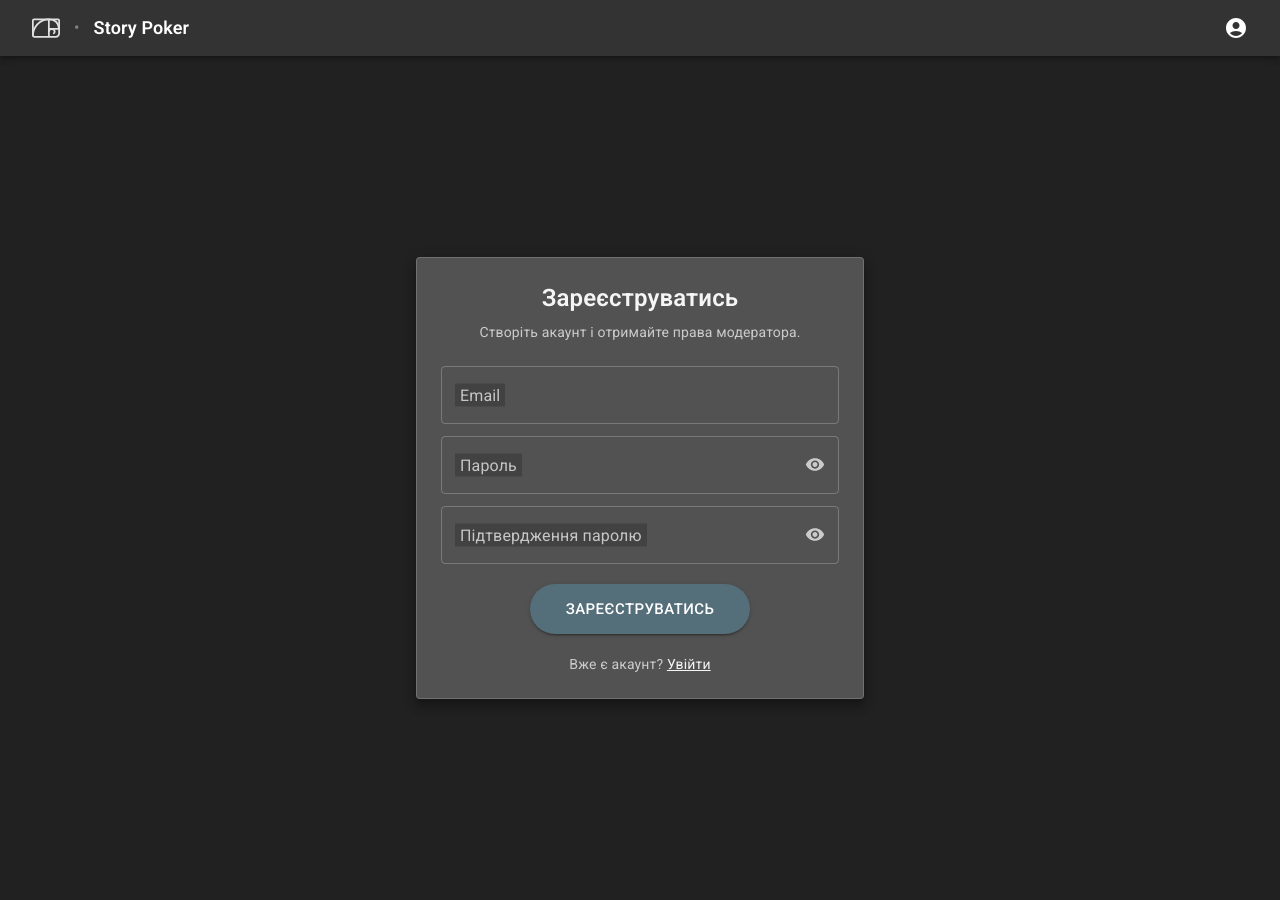
signup page › requires matching passwords
The width and height of the screenshot is (1280, 900).
Type "a@b.co" into the field with test id "signup-email" at (640, 395), box x1=441 y1=366 x2=839 y2=424
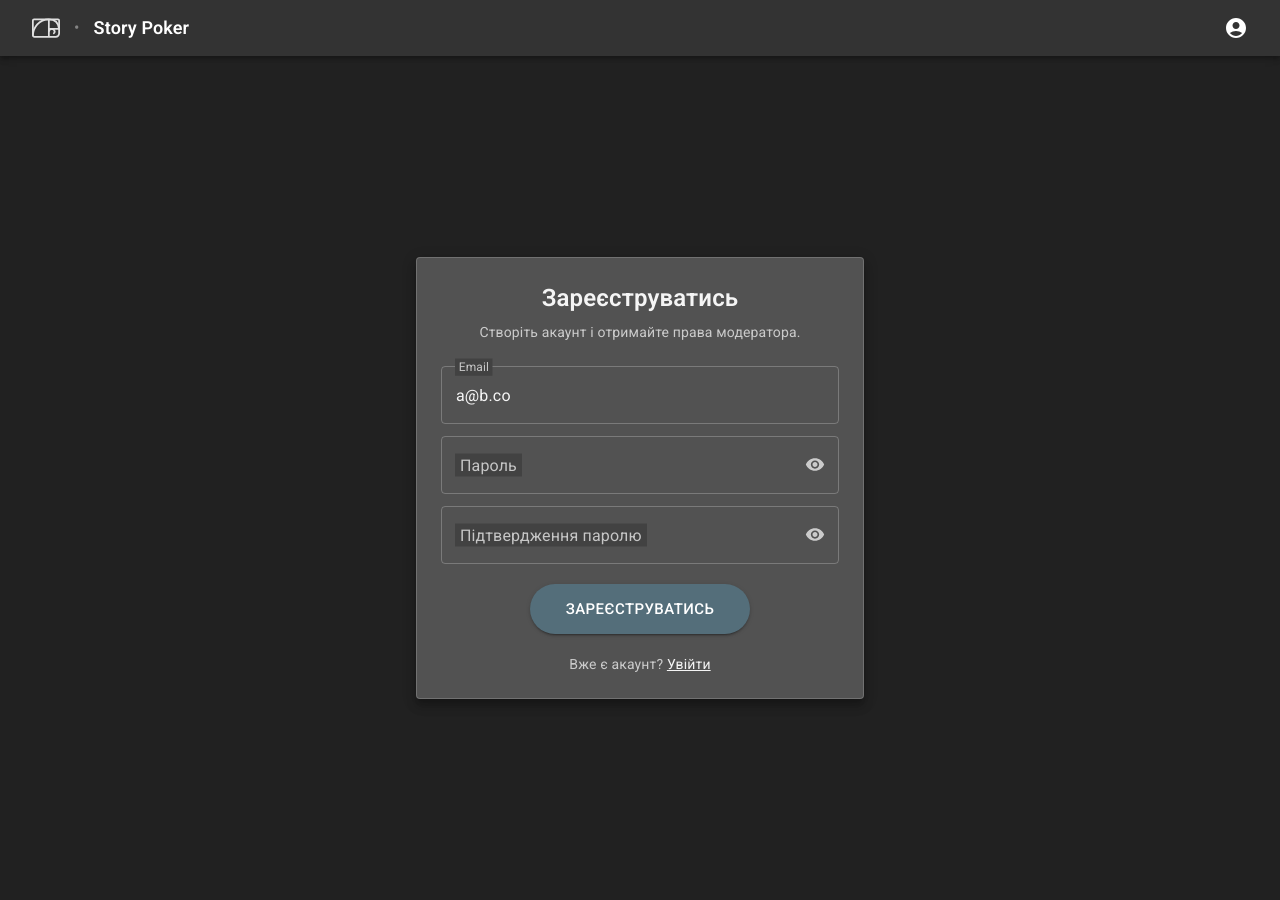
Type "secret1" into the password field with test id "signup-password" at (640, 465), box x1=441 y1=436 x2=839 y2=494
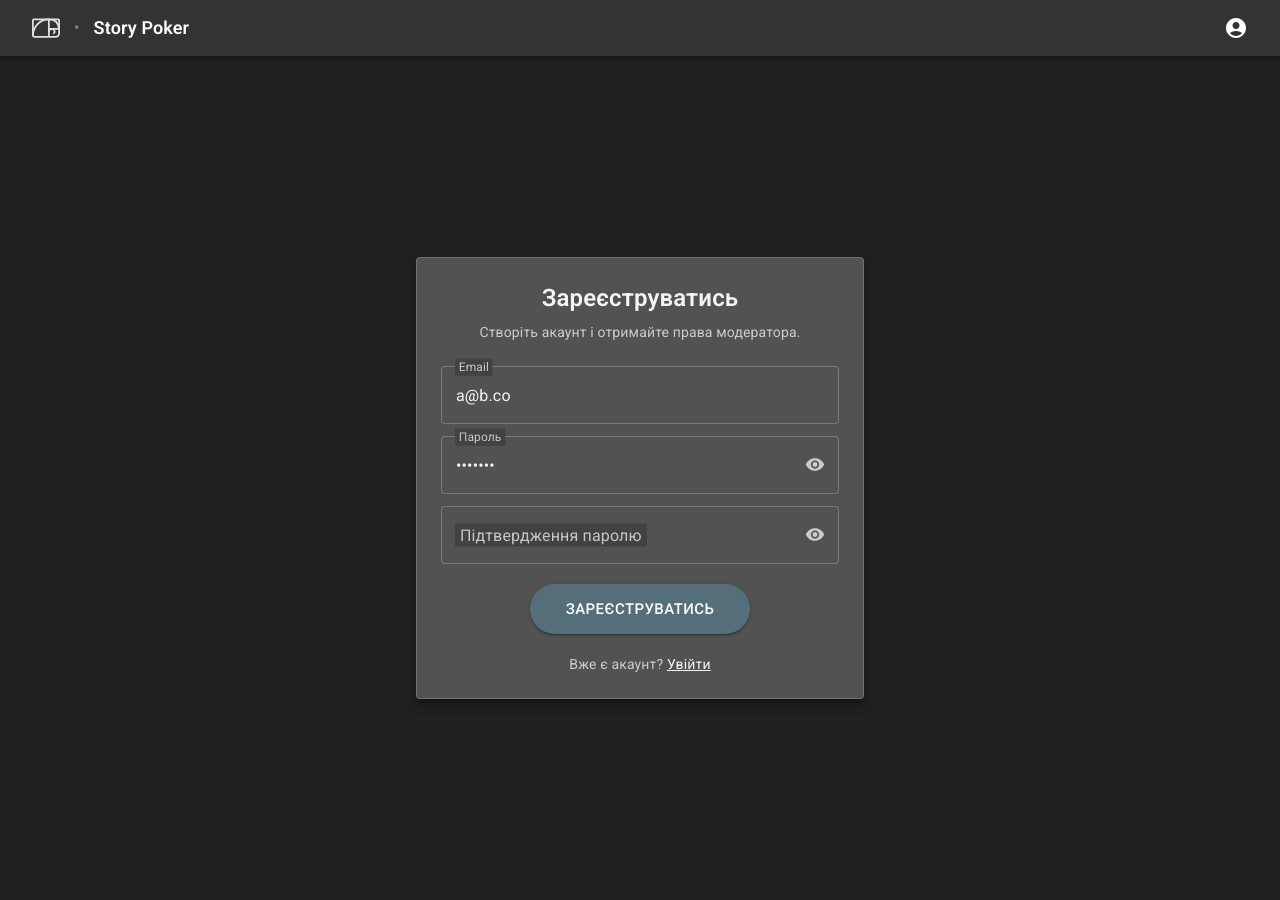
Type "secret2" into the password field with test id "signup-confirm" at (640, 535), box x1=441 y1=506 x2=839 y2=564
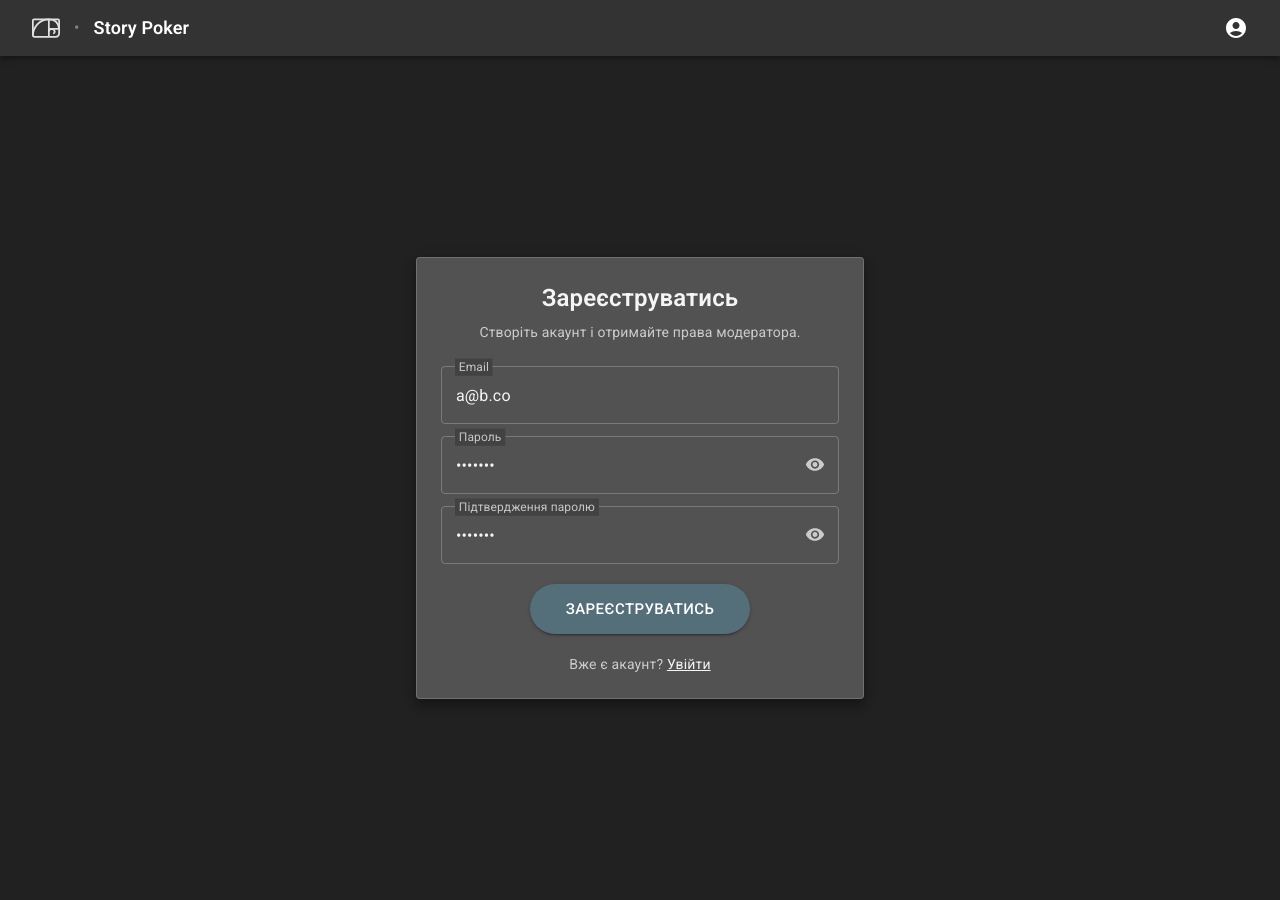
Click the button with test id "signup-submit" at (640, 609), box x1=530 y1=584 x2=750 y2=634
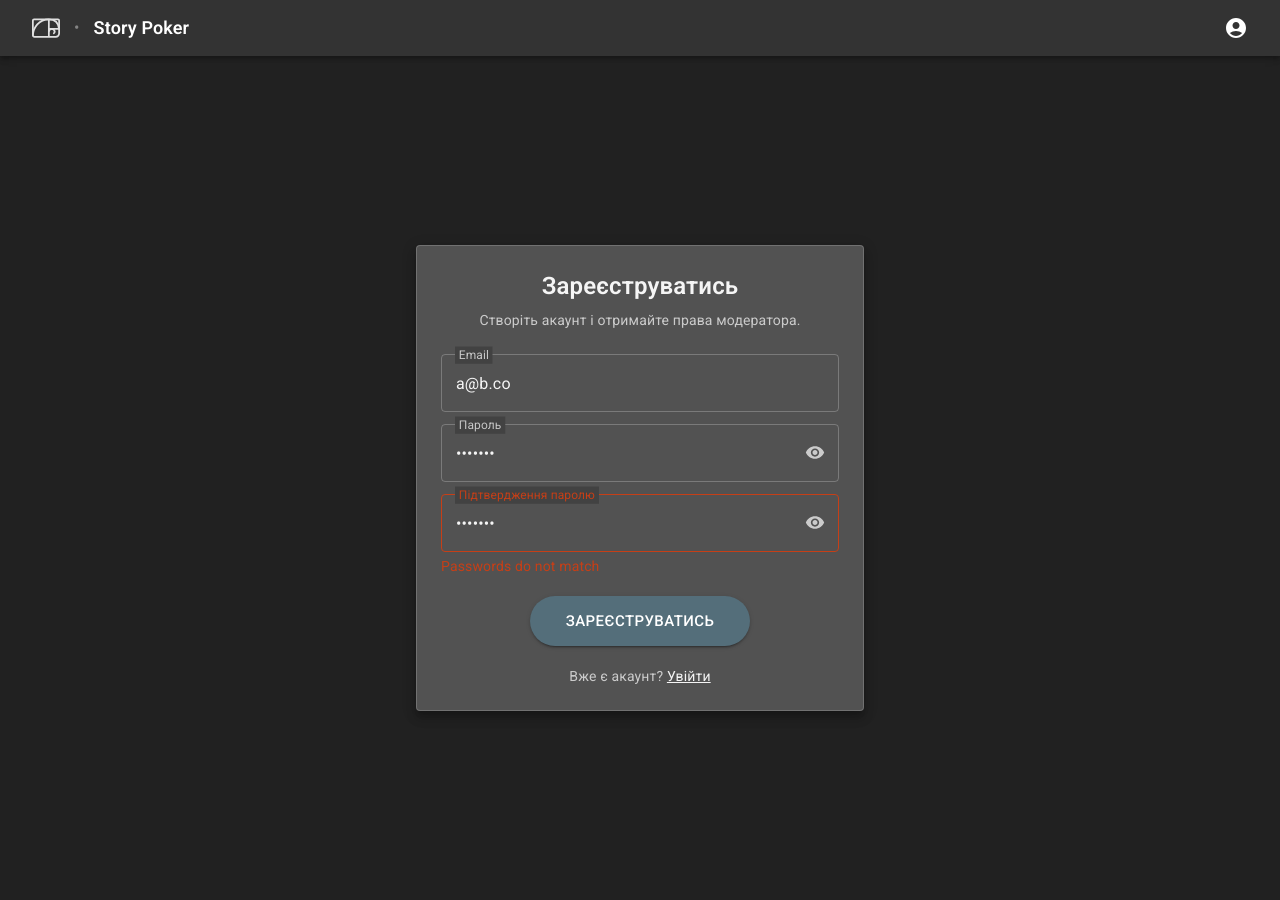
Expected: the text "Passwords do not match" is shown, x1=441 y1=558 x2=600 y2=574
